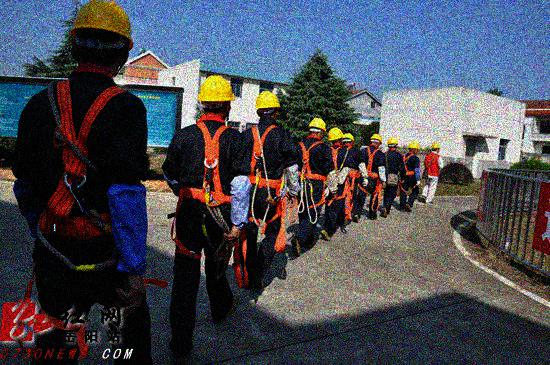helmet: (71, 1, 138, 80), (195, 73, 239, 123), (253, 88, 283, 120), (306, 116, 327, 137), (326, 126, 344, 145), (370, 132, 383, 147), (343, 132, 356, 146), (386, 136, 400, 149), (408, 140, 421, 154), (432, 141, 441, 155)
